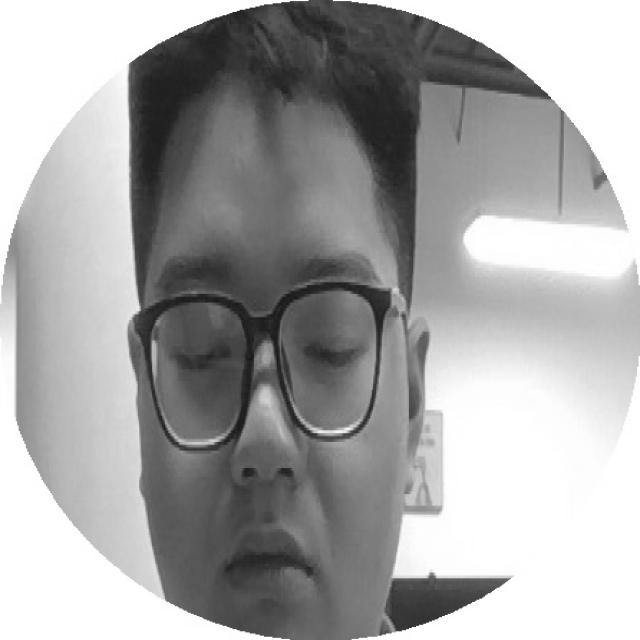real: (141, 101, 415, 640), (149, 281, 385, 399)
